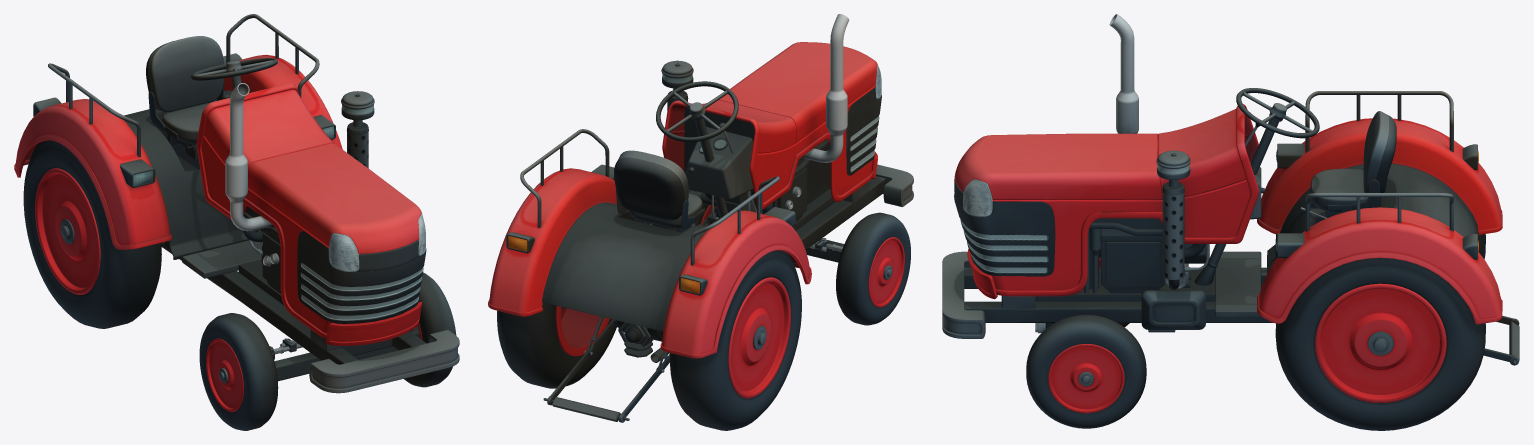
The picture shows the model from 3 angles, left to right: view 1: azimuth 30°, elevation 25°; view 2: azimuth 150°, elevation 25°; view 3: azimuth 270°, elevation 25°; orthographic projection. The views are drawn at different scales.
Parts seen in each view (by area): view 1: farm_tractor.1; view 2: farm_tractor.1; view 3: farm_tractor.1.
Part boxes in pixels (<box>): farm_tractor.1: <box>14,14,459,430</box>; farm_tractor.1: <box>488,14,913,430</box>; farm_tractor.1: <box>942,14,1519,430</box>.
Size of the model in its own units: 1.39 by 1.82 by 2.88.
Materials: 1 (1 with a texture image).
